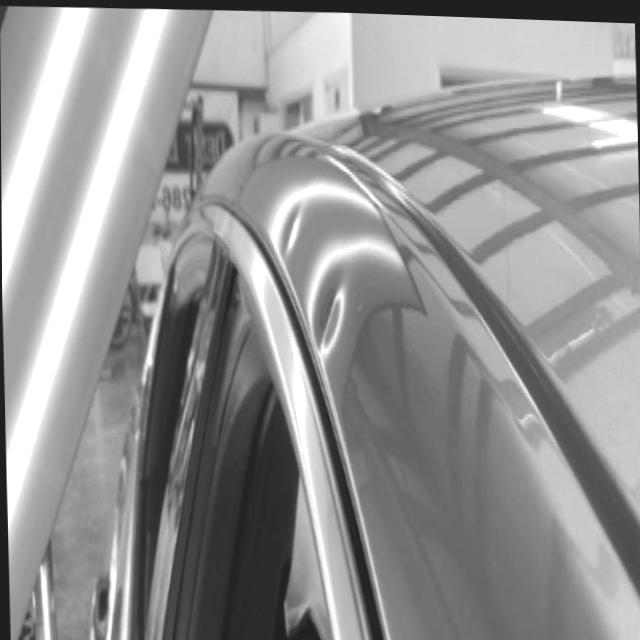Dent: (304, 262, 345, 357), (277, 202, 304, 264)
PDR-Dent: (297, 256, 360, 364), (264, 190, 310, 268)
